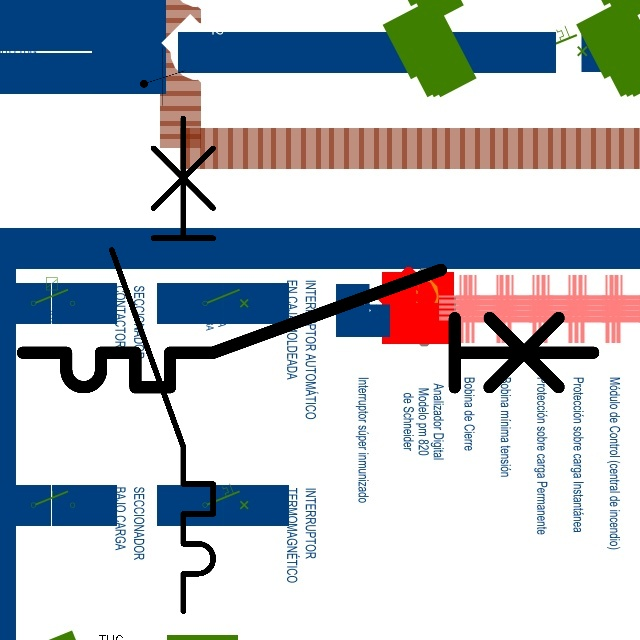interruptor_termomagnetico: (8, 255, 607, 402), (99, 105, 226, 624)
